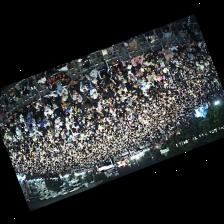person: (97, 55, 109, 79), (111, 60, 123, 76), (130, 54, 143, 68), (66, 80, 79, 94), (42, 98, 51, 118), (162, 48, 174, 62), (45, 91, 59, 103), (84, 69, 96, 82), (51, 103, 59, 122), (109, 70, 118, 86), (143, 50, 155, 62), (116, 69, 126, 82), (135, 71, 146, 82), (30, 99, 41, 110), (61, 95, 71, 107), (57, 87, 67, 99), (70, 91, 82, 101), (80, 75, 89, 88), (79, 82, 88, 95), (80, 102, 90, 113), (90, 77, 100, 88), (99, 80, 109, 91), (19, 106, 28, 118), (155, 72, 164, 84), (24, 112, 31, 127), (89, 85, 97, 98), (127, 67, 135, 80), (141, 60, 151, 70), (145, 65, 155, 75), (176, 44, 187, 53), (157, 58, 164, 71), (42, 116, 49, 129), (142, 81, 149, 94), (162, 56, 169, 68), (96, 87, 105, 96), (122, 59, 131, 68), (105, 91, 113, 101), (28, 105, 35, 116), (179, 52, 188, 60), (132, 65, 140, 74), (146, 73, 154, 82), (169, 44, 176, 54), (196, 41, 204, 49), (1, 118, 8, 127), (80, 94, 86, 104), (95, 102, 101, 112), (185, 39, 190, 50), (138, 66, 143, 76), (13, 120, 19, 126)
